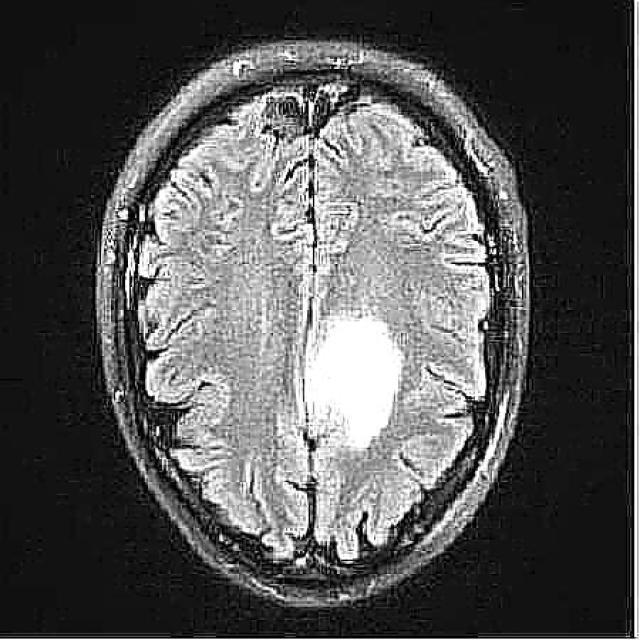brain tumor: (306, 317, 407, 445)
